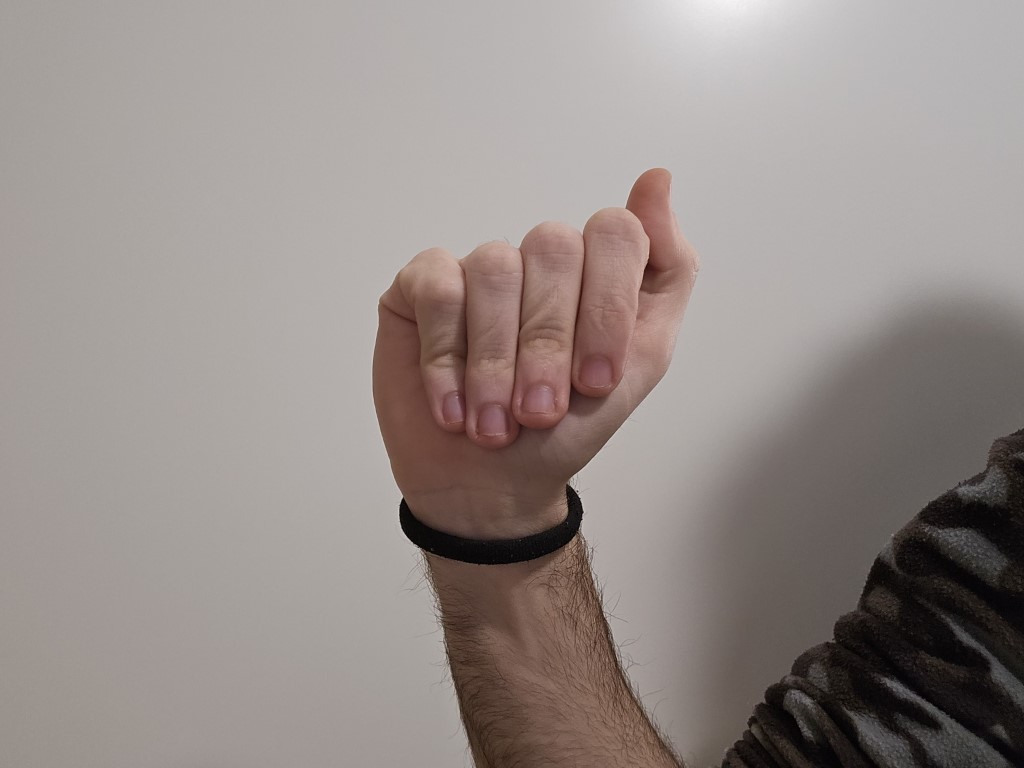a: (362, 153, 714, 559)
